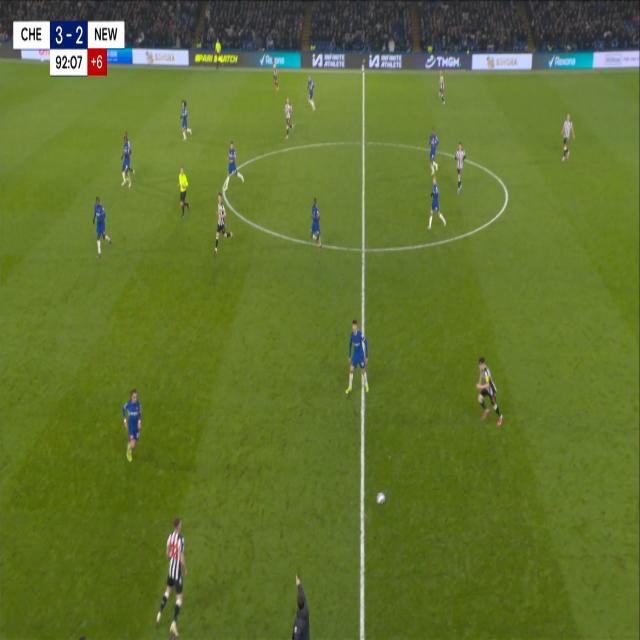Ball: (375, 490, 386, 506)
Chelsea: (343, 313, 372, 399), (120, 383, 144, 464), (222, 137, 247, 192), (91, 192, 111, 258), (428, 173, 448, 233), (310, 195, 324, 253), (120, 134, 134, 192), (178, 96, 194, 143), (428, 126, 441, 176), (305, 72, 318, 116)
New castle: (154, 512, 190, 638), (474, 352, 504, 428), (213, 188, 234, 252), (557, 106, 577, 165), (453, 141, 467, 198), (282, 94, 295, 144), (437, 65, 447, 109), (270, 56, 279, 94)
Refree: (175, 161, 192, 221)
